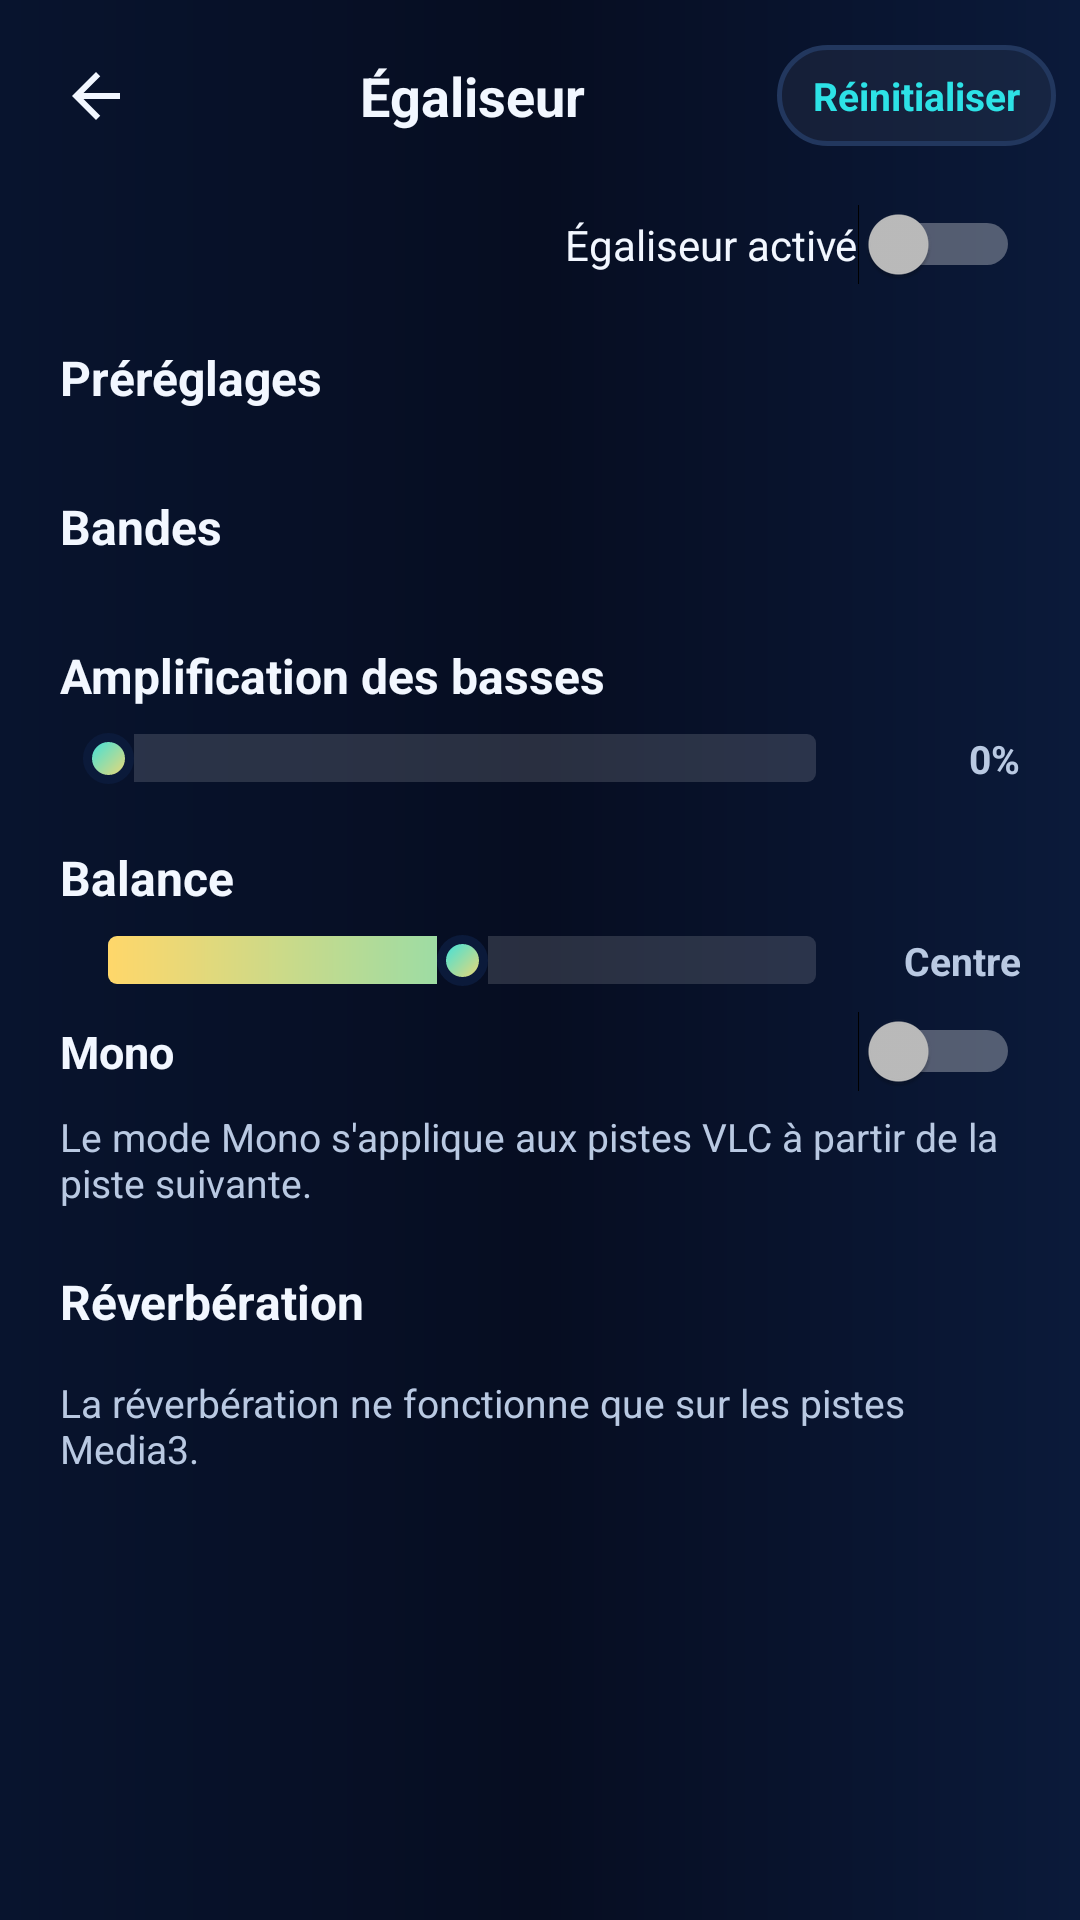

Where icons sit on this 1080w x 1920h app screen, as (x1, y1, x2, y2):
Retour: (72, 72, 120, 120)
